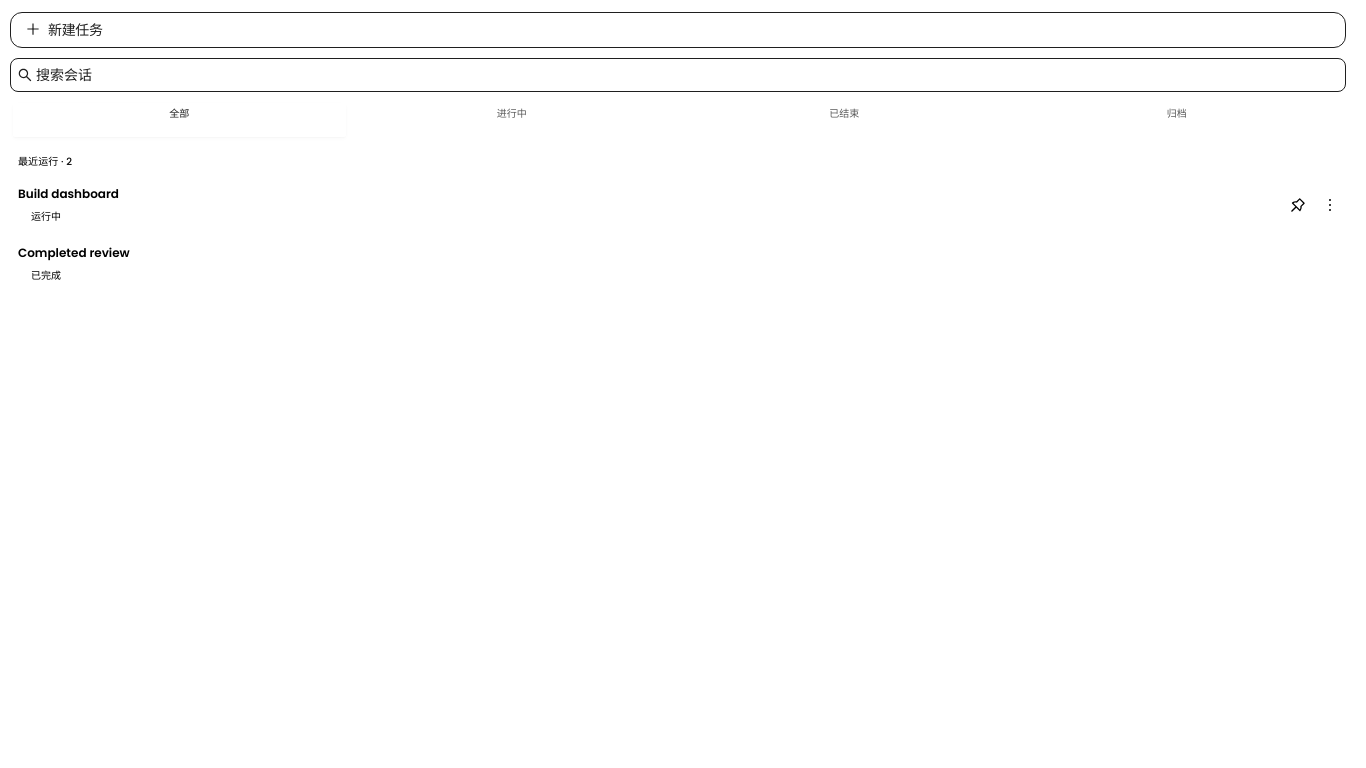
Test: Agent product polish › renames a session without changing the server-owned session record
Click the button named "会话操作 Build dashboard" at (1330, 205), box [1314,177,1346,233]
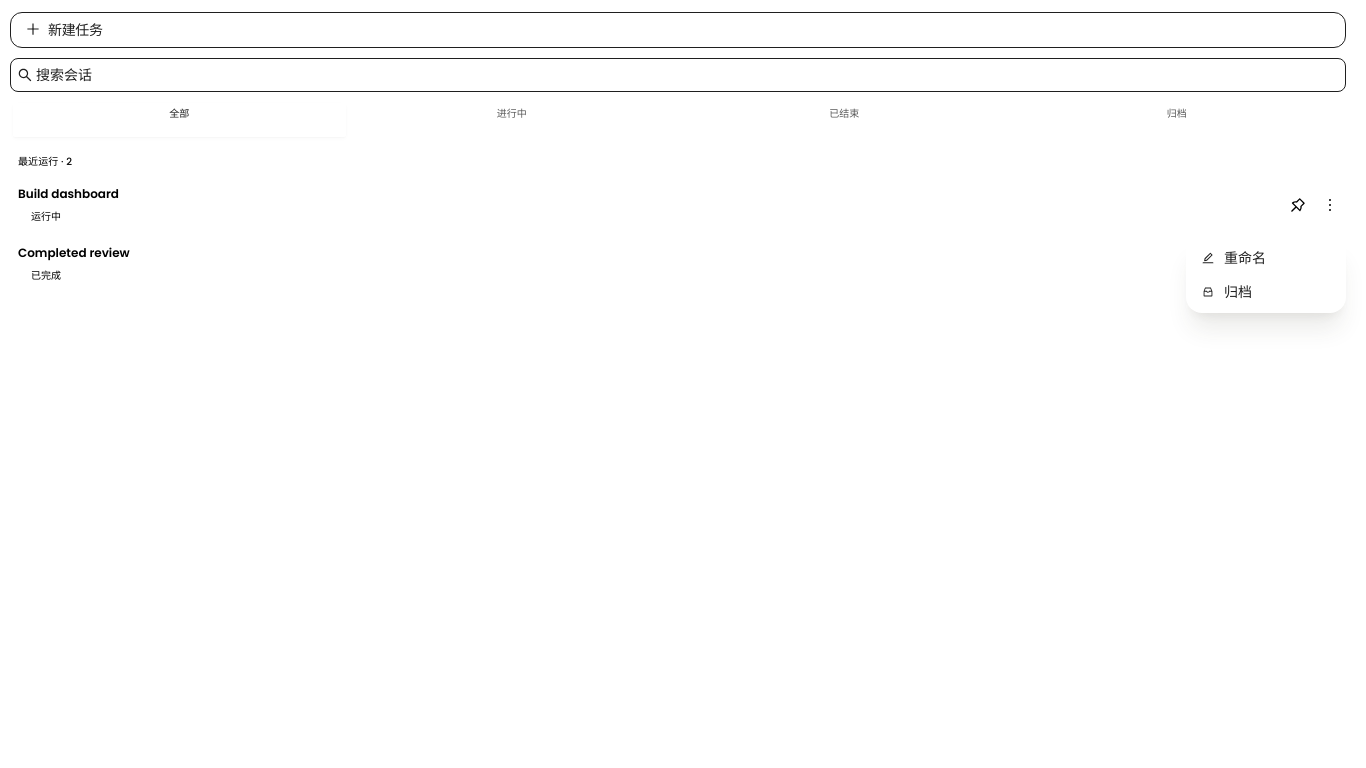
Click the menu item "重命名" at (1234, 258), box [1202,249,1266,266]
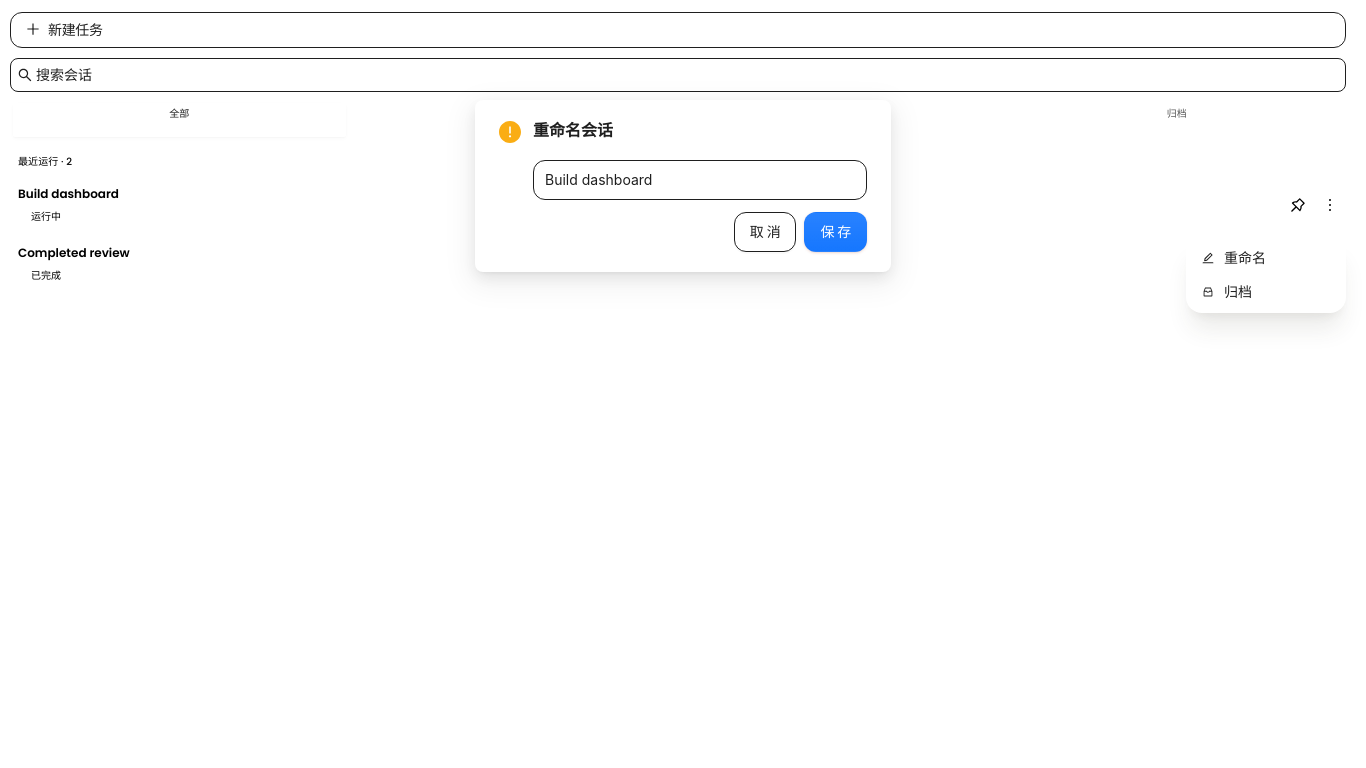
Replace the text in the field showing "Build dashboard" with "Dashboard polish" at (700, 180), box [533,160,867,200]
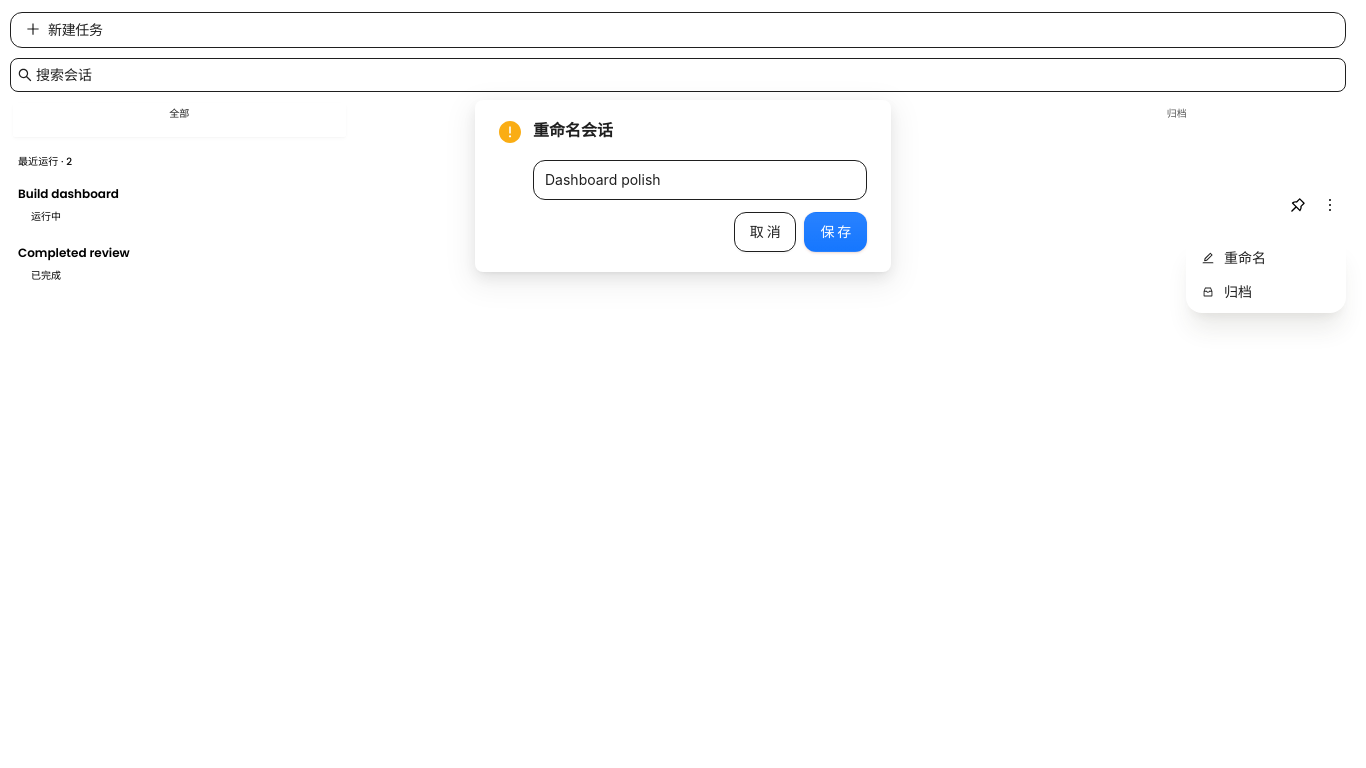
Click the button "保 存" at (836, 232), box [804,212,867,252]
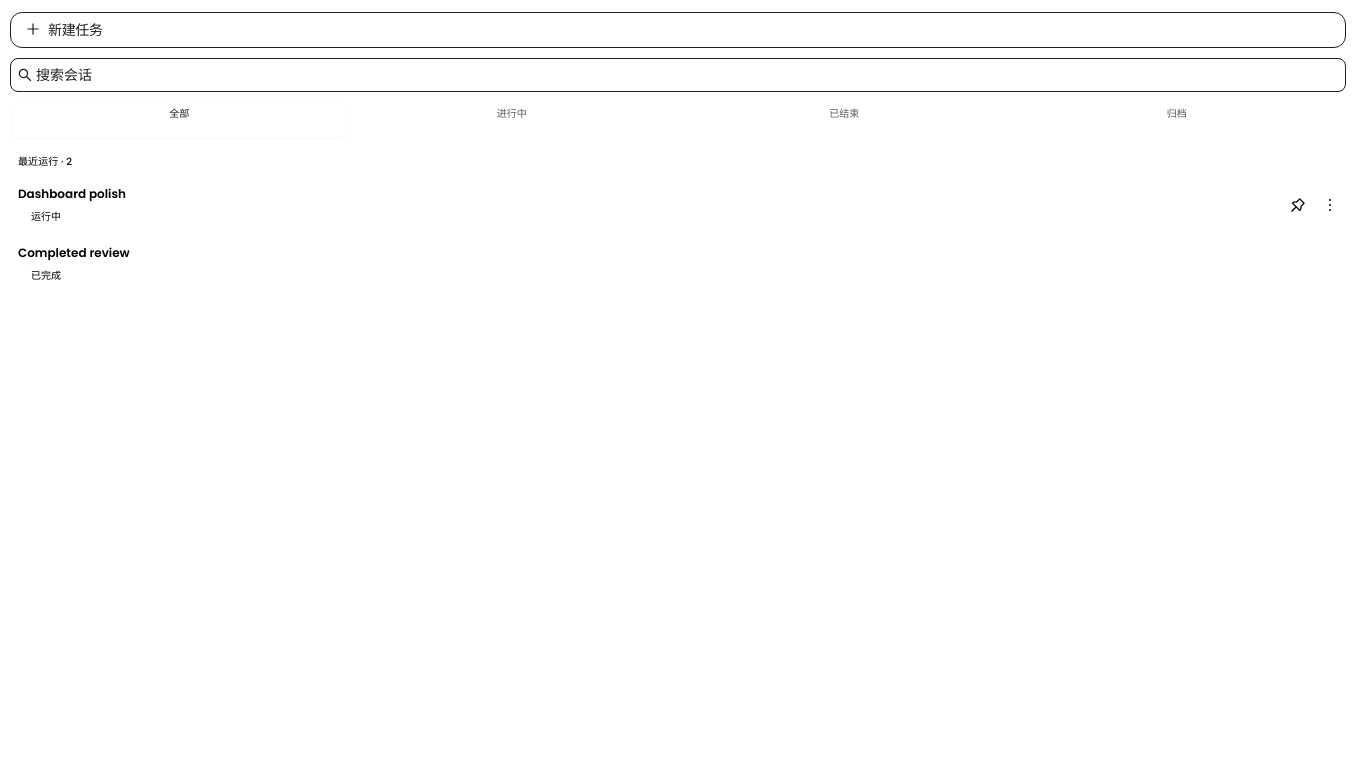
Check: the text "Dashboard polish" is shown, box [18,185,126,202]
